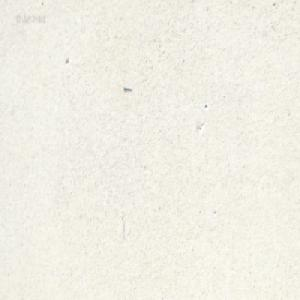Nail: (122, 84, 132, 90)
